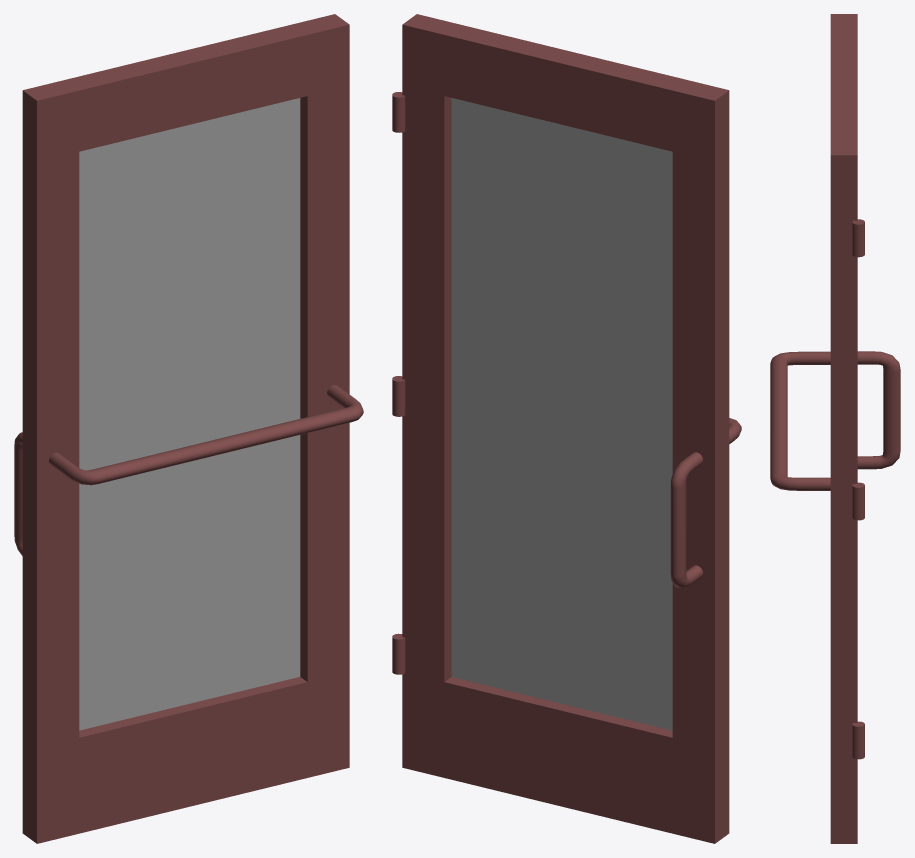
File: SM_GlassDoor.FBX
3 renders of one model, left to right at view 1: azimuth 30°, elevation 25°; view 2: azimuth 150°, elevation 25°; view 3: azimuth 270°, elevation 25°, orthographic. The views are drawn at different scales.
Parts seen in each view (by area): view 1: polySurface1122; view 2: polySurface1122; view 3: polySurface1122.
Boxes of the visible parts, x1,y1,x2,y2 form: polySurface1122: (14, 14, 363, 843); polySurface1122: (392, 14, 741, 843); polySurface1122: (770, 14, 900, 843).
Bounding box in the file's own units: 111 × 245 × 42.09.
